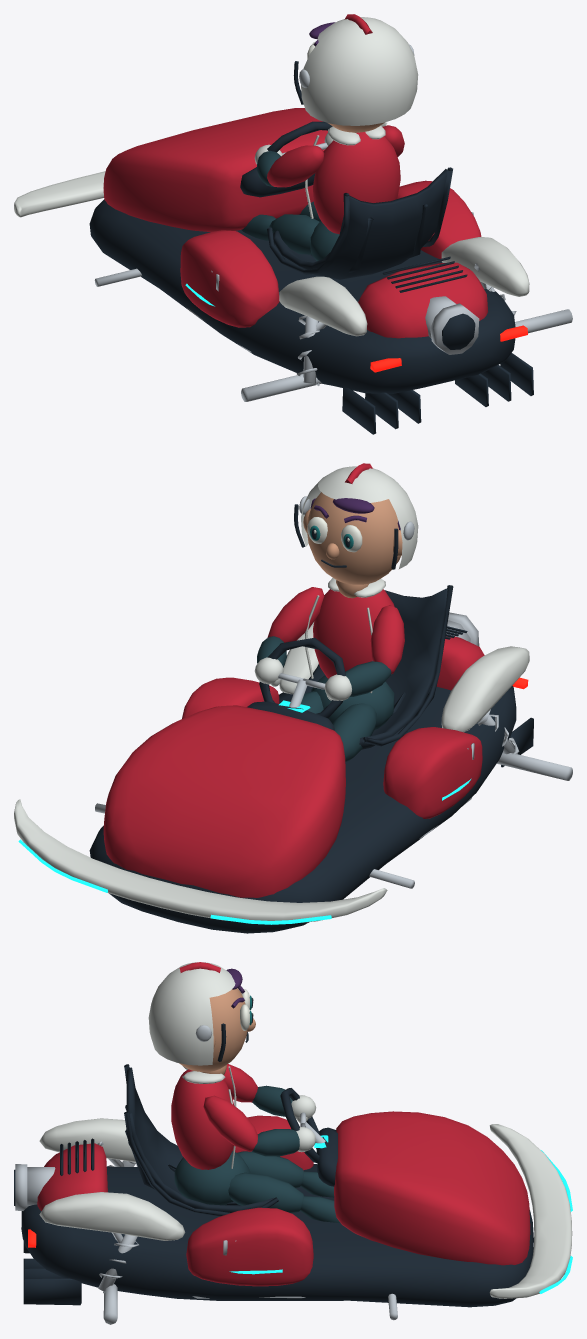
File: kestrel-kart-v1.glb
3 views of the same model, one above another, from view 1: azimuth 30°, elevation 25°; view 2: azimuth 150°, elevation 25°; view 3: azimuth 270°, elevation 25° (orthographic). The views are drawn at different scales.
Parts seen in each view (by area): view 1: ContinuousLowerHull, SculptedProw, SweptFrontApron, TailoredTorso, PodVent-1_0, SeatedHip, UpperArm-1, TailLightHousing-1; view 2: SculptedProw, ContinuousLowerHull, SweptFrontApron, Neck, TailoredTorso, PodVent-1_0, SeatedHip, UpperArm1, UpperArm-1, InstrumentScreen, Forearm-1, Eyebrow-1 (+3 smaller); view 3: SculptedProw, ContinuousLowerHull, SweptFrontApron, SeatedHip, TailoredTorso, PodVent-1_0, Neck, UpperArm1, Forearm1, UpperArm-1, Forearm-1, InstrumentScreen (+1 smaller).
Boxes of the visible parts, x1=… form: ContinuousLowerHull: x1=89, y1=61, x2=533, y2=434; SculptedProw: x1=103, y1=14, x2=488, y2=338; SweptFrontApron: x1=14, y1=17, x2=529, y2=336; TailoredTorso: x1=313, y1=132, x2=400, y2=234; PodVent-1_0: x1=94, y1=44, x2=572, y2=401; SeatedHip: x1=241, y1=201, x2=339, y2=261; UpperArm-1: x1=267, y1=145, x2=324, y2=187; TailLightHousing-1: x1=370, y1=325, x2=527, y2=372; SculptedProw: x1=103, y1=463, x2=484, y2=897; ContinuousLowerHull: x1=89, y1=504, x2=533, y2=933; SweptFrontApron: x1=14, y1=466, x2=529, y2=922; Neck: x1=303, y1=492, x2=402, y2=598; TailoredTorso: x1=313, y1=589, x2=394, y2=678; PodVent-1_0: x1=95, y1=496, x2=572, y2=888; SeatedHip: x1=301, y1=675, x2=394, y2=762; UpperArm1: x1=267, y1=587, x2=324, y2=642; UpperArm-1: x1=370, y1=605, x2=404, y2=674; InstrumentScreen: x1=18, y1=700, x2=471, y2=924; Forearm-1: x1=345, y1=661, x2=391, y2=696; Eyebrow-1: x1=310, y1=498, x2=400, y2=530; SculptedProw: x1=37, y1=962, x2=530, y2=1286; ContinuousLowerHull: x1=14, y1=998, x2=533, y2=1307; SweptFrontApron: x1=39, y1=962, x2=572, y2=1298; SeatedHip: x1=174, y1=1151, x2=340, y2=1222; TailoredTorso: x1=171, y1=1069, x2=233, y2=1169; PodVent-1_0: x1=15, y1=1025, x2=397, y2=1324; Neck: x1=179, y1=988, x2=255, y2=1074; UpperArm1: x1=203, y1=1095, x2=257, y2=1151; Forearm1: x1=252, y1=1129, x2=299, y2=1156; UpperArm-1: x1=223, y1=1064, x2=257, y2=1102; Forearm-1: x1=252, y1=1085, x2=292, y2=1116; InstrumentScreen: x1=229, y1=1135, x2=572, y2=1293.
Size of the model in its own units: 1.63 by 1.4 by 2.31.
